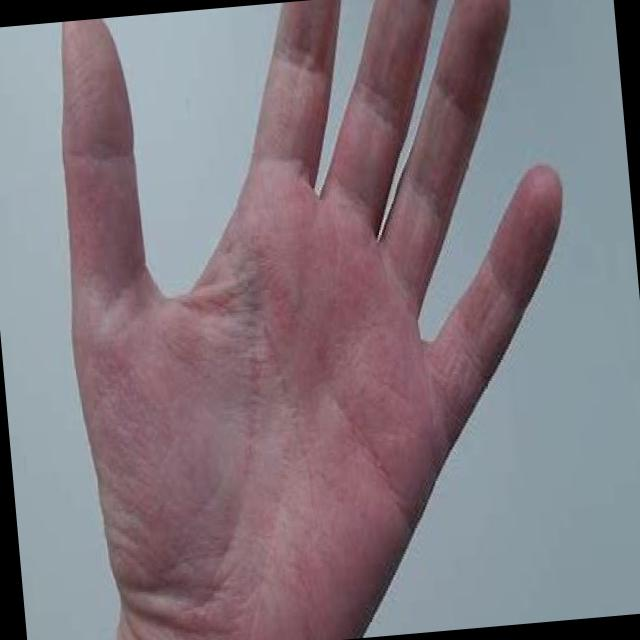not-gloved: (46, 0, 616, 640)
